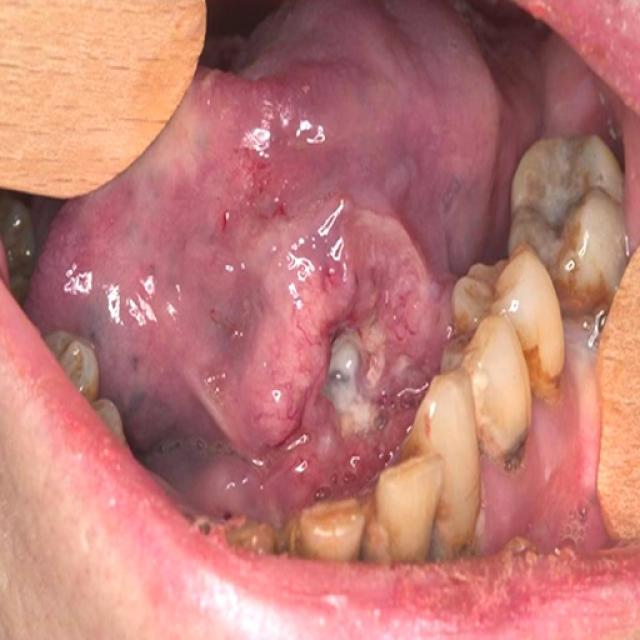cancer-detection: (161, 142, 445, 518), (362, 538, 638, 639)
processing_area: (21, 0, 639, 525), (201, 315, 639, 639)
